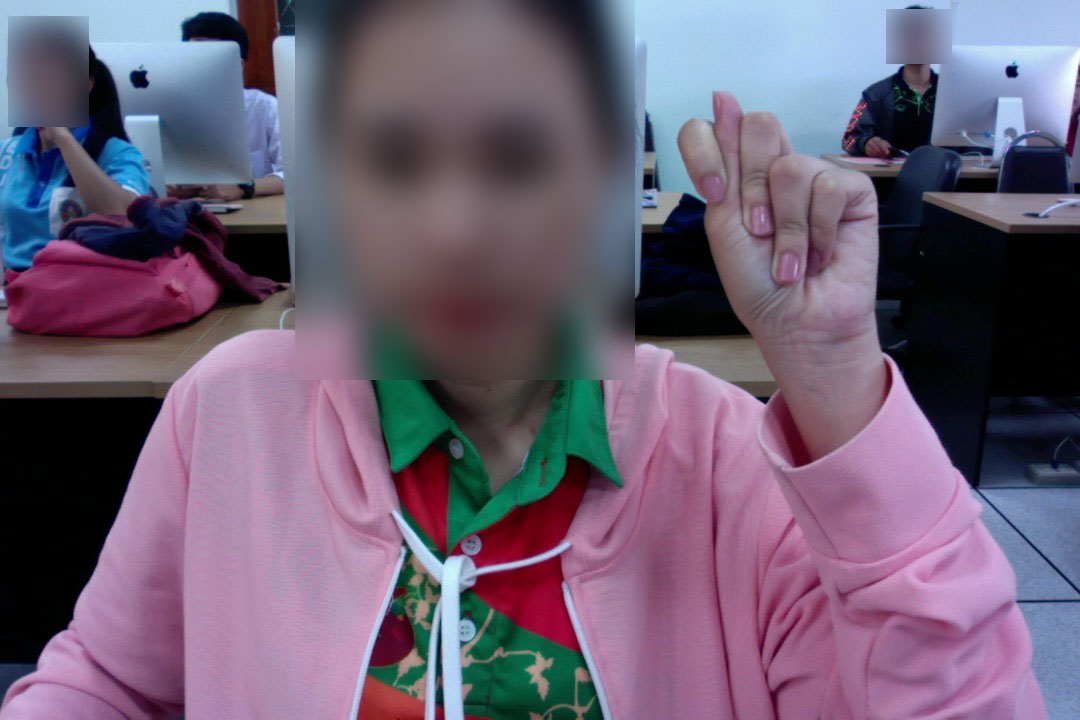tor: (674, 84, 884, 369)
